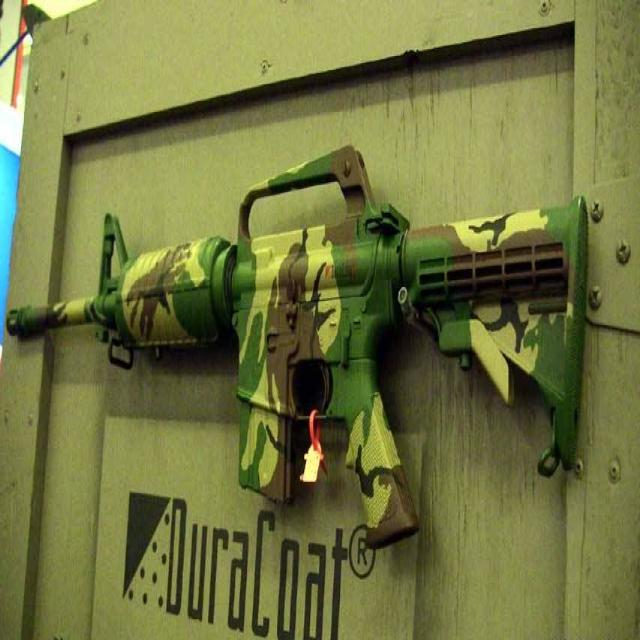firearm: (6, 143, 591, 543)
